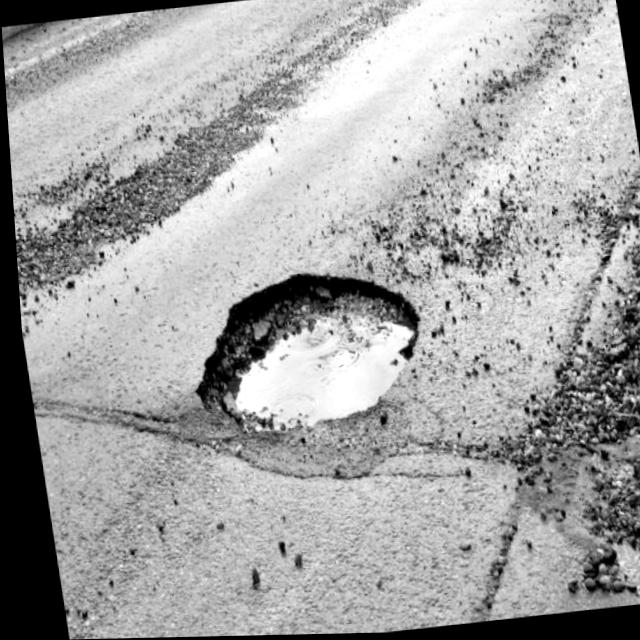pathole: (191, 274, 413, 445)
